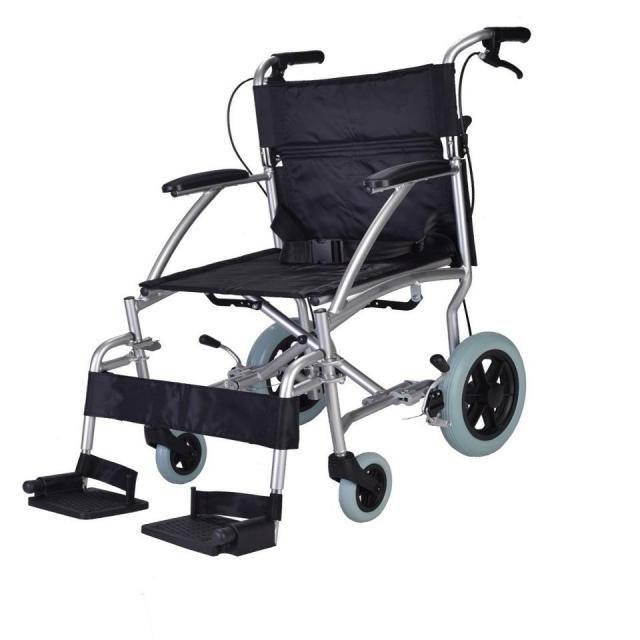wheelchair: (16, 20, 546, 580)
